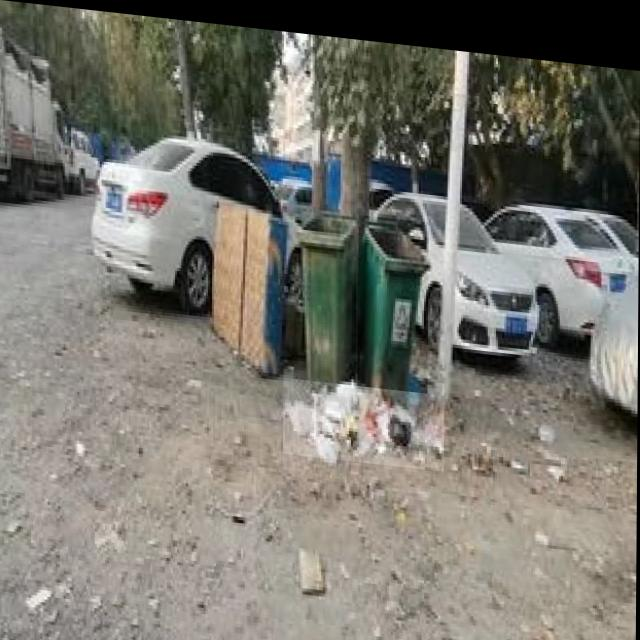garbage: (284, 359, 445, 461)
garbage_bin: (358, 206, 429, 384), (294, 198, 357, 377)
